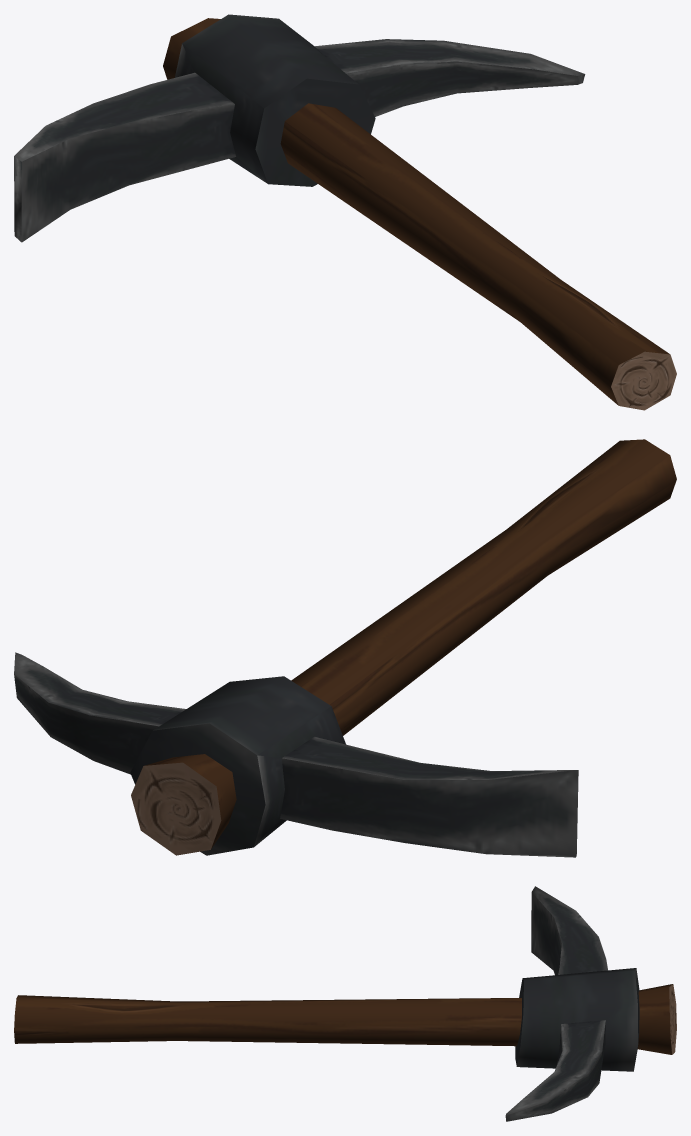
Rendered from SM_PROP_pickaxe_city.fbx.
3 views of the same model, one above another, from view 1: azimuth 30°, elevation 25°; view 2: azimuth 150°, elevation 25°; view 3: azimuth 270°, elevation 25° (orthographic). The views are drawn at different scales.
Visible parts, largest first — view 1: SM_PROP_pickaxe_city; view 2: SM_PROP_pickaxe_city; view 3: SM_PROP_pickaxe_city.
Boxes of the visible parts, x1,y1,x2,y2 form: SM_PROP_pickaxe_city: [14, 14, 676, 410]; SM_PROP_pickaxe_city: [14, 439, 676, 857]; SM_PROP_pickaxe_city: [14, 886, 676, 1121].
Size of the model in its own units: 89.11 by 19.57 by 124.
